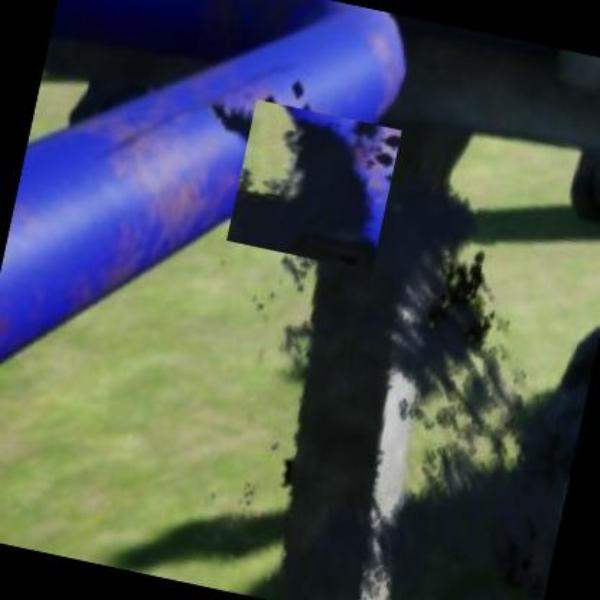gas: (241, 162, 495, 406)
